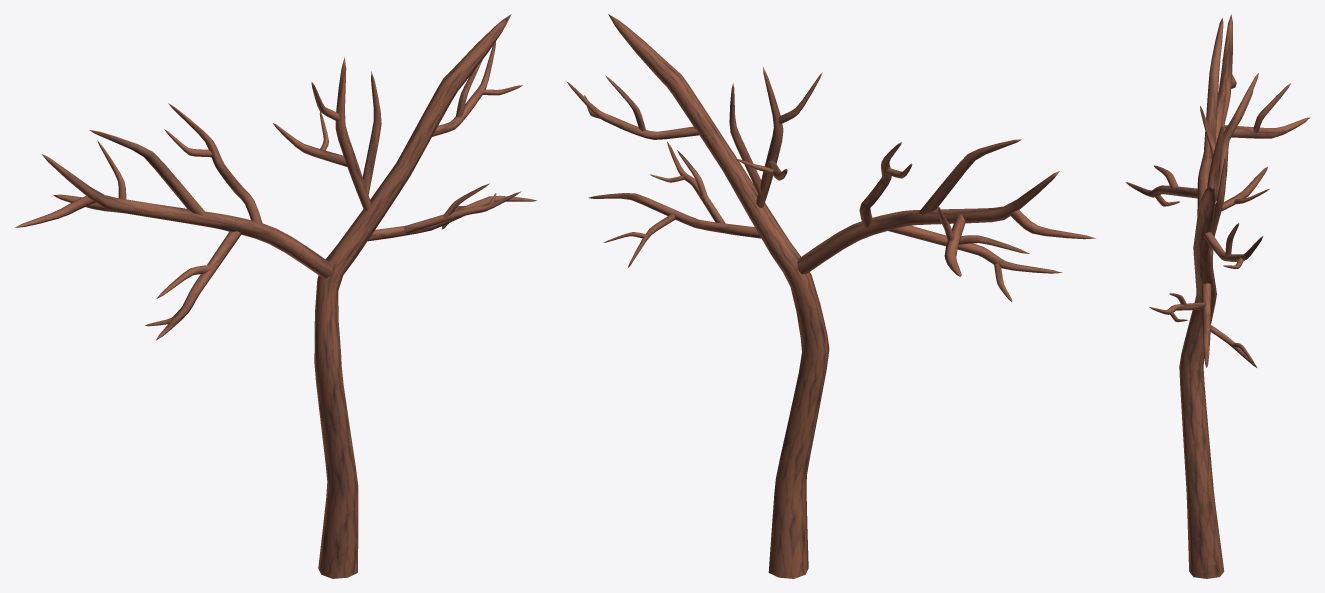
The model's file is DeadTree_4.glb.
3 renders of one model, left to right at view 1: azimuth 30°, elevation 25°; view 2: azimuth 150°, elevation 25°; view 3: azimuth 270°, elevation 25°, orthographic. The views are drawn at different scales.
Visible parts, largest first — view 1: DeadTree_4; view 2: DeadTree_4; view 3: DeadTree_4.
Boxes of the visible parts, bbox=[...] form: DeadTree_4: bbox=[15, 14, 536, 578]; DeadTree_4: bbox=[566, 14, 1095, 578]; DeadTree_4: bbox=[1125, 14, 1309, 578].
Bounding box in the file's own units: 0.8244 × 0.7838 × 0.2838.
1 material, 1 textured.
